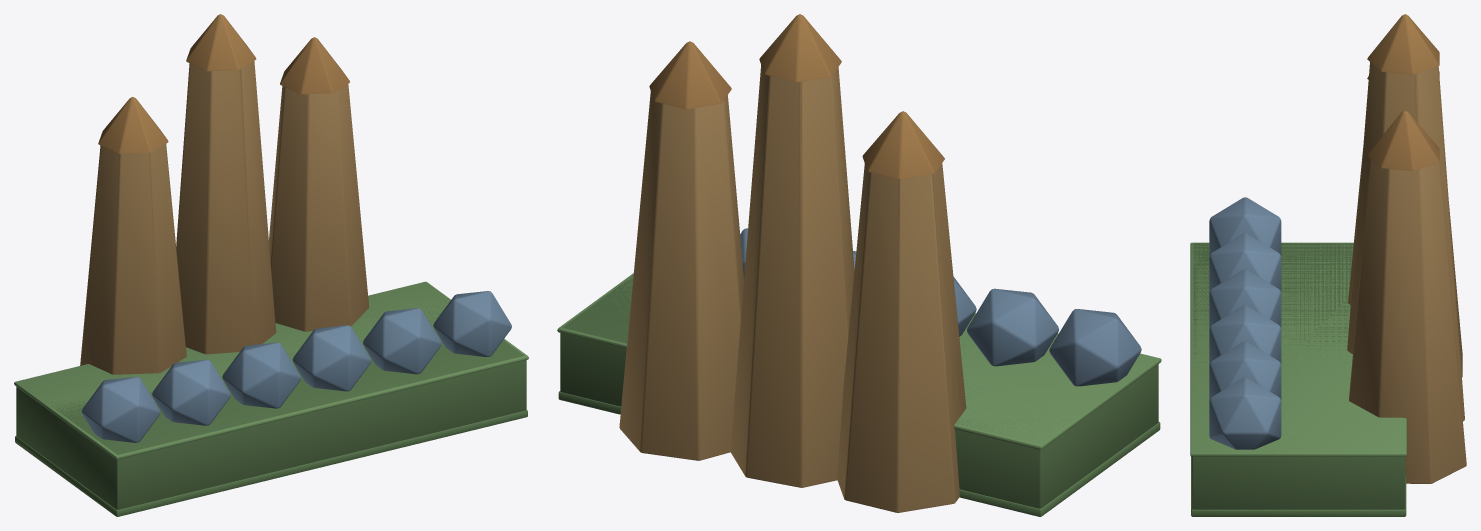
Rendered from lm-sisters.glb.
3 views of the same model, side by side, from view 1: azimuth 30°, elevation 25°; view 2: azimuth 150°, elevation 25°; view 3: azimuth 270°, elevation 25° (orthographic). The views are drawn at different scales.
Size of the model in its own units: 14.1 by 12.36 by 7.78.
